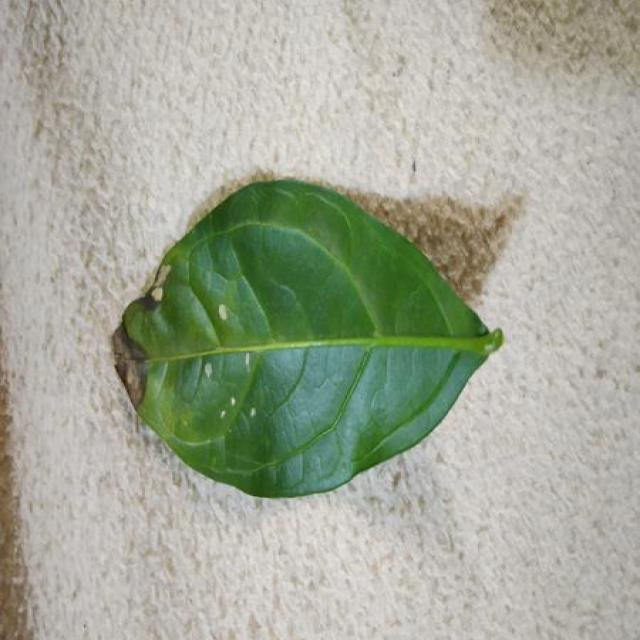Jasmine: (115, 180, 503, 497)
